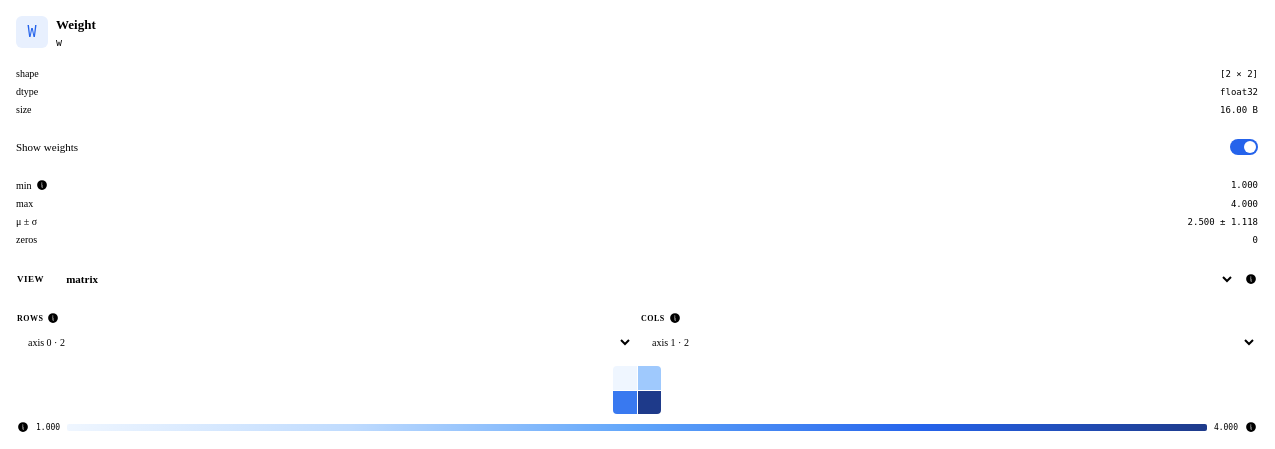
it: diagnostics renders an explicit empty state
The width and height of the screenshot is (1275, 449).
Select "diagnostics" in the dropdown named "Weight inspector" at point(645, 279), box [54,264,1235,294]
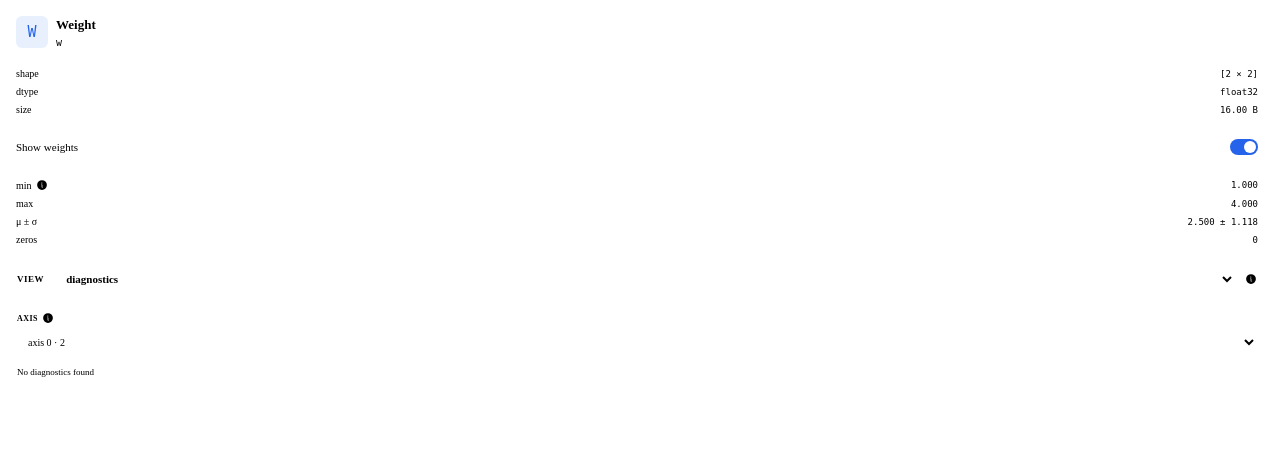
Result: the text "No diagnostics found" is shown at [17,367,94,377]
